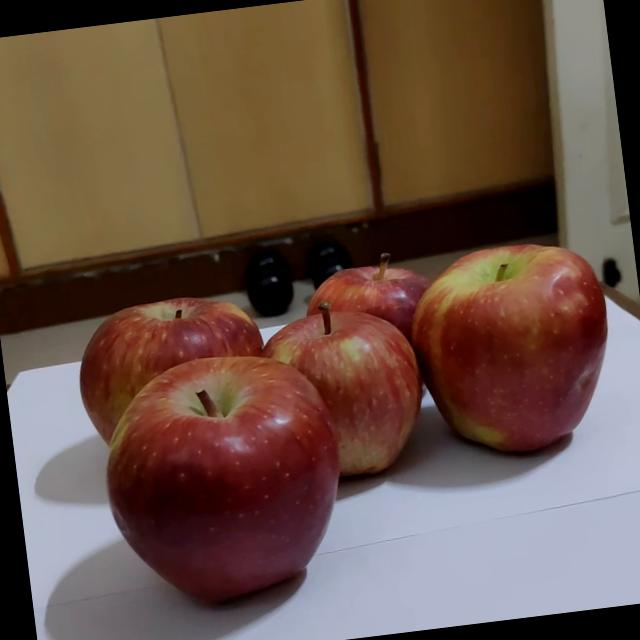apple: (90, 340, 352, 614), (61, 254, 278, 463), (420, 232, 628, 447), (250, 292, 437, 478), (290, 230, 447, 384)
